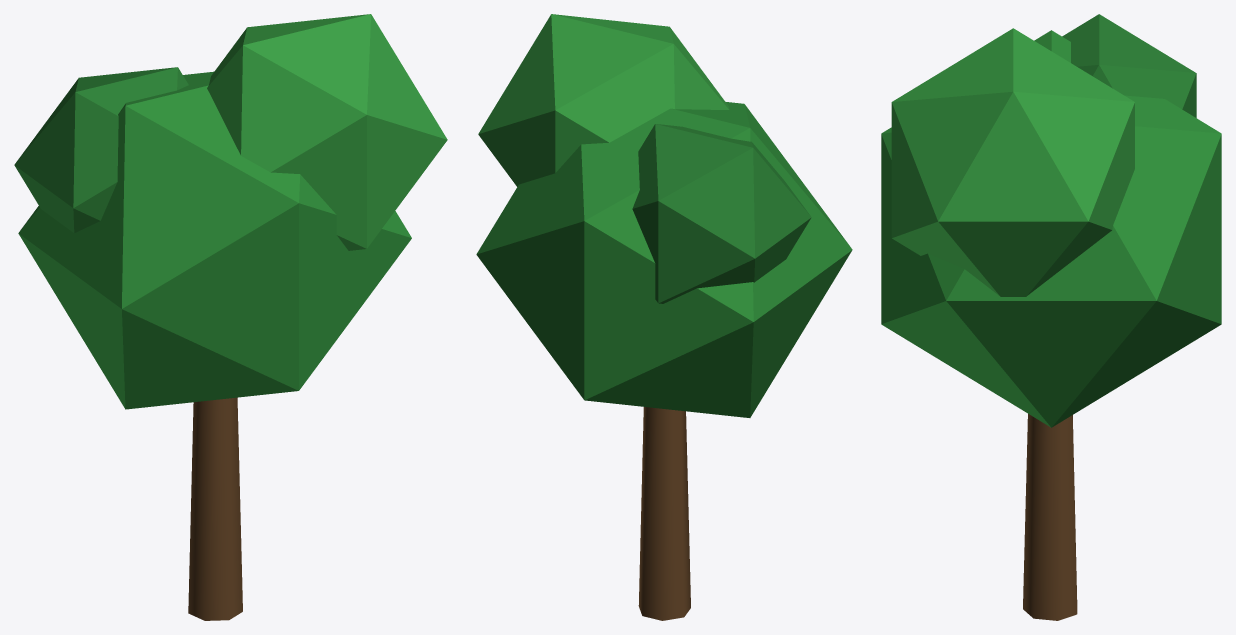
Rendered from pohon_1.glb.
The picture shows the model from 3 angles, left to right: view 1: azimuth 30°, elevation 25°; view 2: azimuth 150°, elevation 25°; view 3: azimuth 270°, elevation 25°; orthographic projection. The views are drawn at different scales.
Bounding box in the file's own units: 4 × 6.78 × 3.57.
